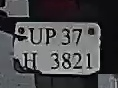1: (83, 48, 93, 73)
2: (71, 51, 84, 72)
3: (58, 25, 73, 49), (49, 49, 62, 71)
7: (72, 27, 84, 48)
8: (60, 50, 72, 72)
H: (19, 47, 41, 72)
P: (45, 26, 56, 48)
U: (27, 27, 44, 47)
